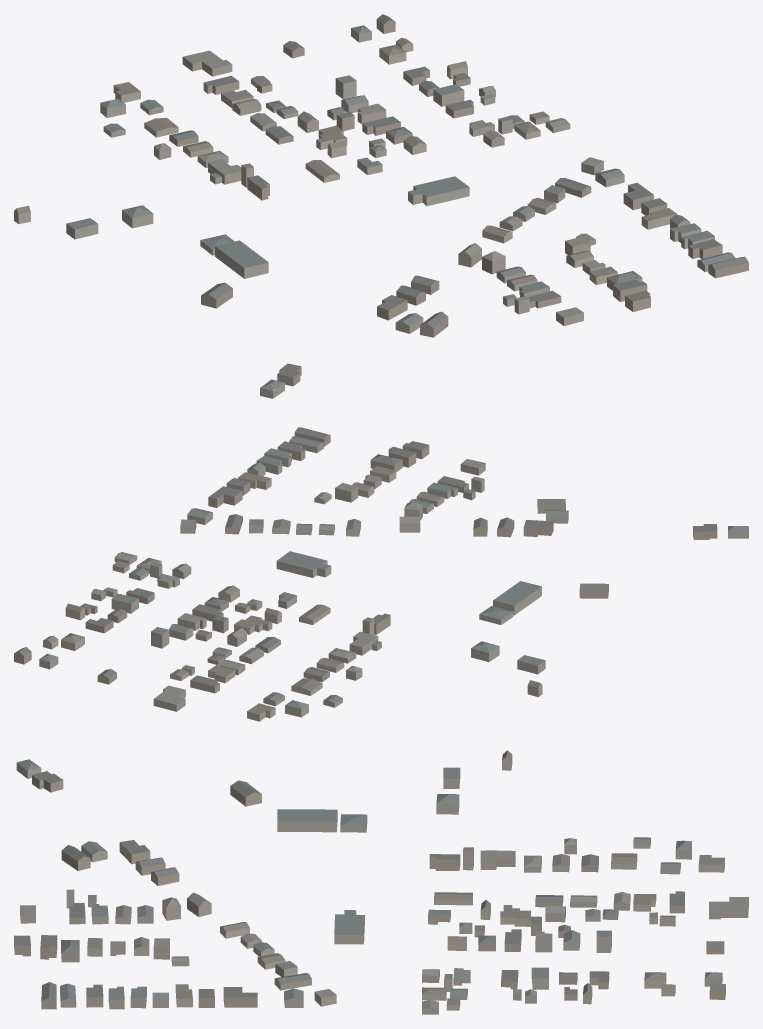
File: 63b0f46fdddc-chunk-1197_11844.glb
The picture shows the model from 3 angles, top to bottom: view 1: azimuth 30°, elevation 25°; view 2: azimuth 150°, elevation 25°; view 3: azimuth 270°, elevation 25°; orthographic projection. The views are drawn at different scales.
Visible parts, largest first — view 1: building_51806, building_45724, building_107196; view 2: building_45724, building_51806, building_107196, building_51783; view 3: building_51806, building_45724, building_107196, building_108717, building_51783, building_95433, building_101475, building_70171, building_107347, building_134942, building_125487, building_81007 (+6 smaller).
Boxes of the visible parts, <box> form: building_51806: <box>215,240,268,278</box>; building_45724: <box>408,176,469,206</box>; building_107196: <box>182,50,232,76</box>; building_45724: <box>276,551,331,577</box>; building_51806: <box>493,581,541,615</box>; building_107196: <box>153,685,185,711</box>; building_51783: <box>208,486,242,507</box>; building_51806: <box>277,809,337,832</box>; building_45724: <box>334,910,364,944</box>; building_107196: <box>709,897,748,919</box>; building_108717: <box>480,850,515,869</box>; building_51783: <box>223,987,257,1007</box>; building_95433: <box>230,780,261,806</box>; building_101475: <box>500,905,530,926</box>; building_70171: <box>119,840,150,864</box>; building_107347: <box>61,845,90,870</box>; building_134942: <box>429,854,460,870</box>; building_125487: <box>434,892,472,905</box>; building_81007: <box>340,814,367,832</box>.
Bounding box in the file's own units: 313 × 11.14 × 388.
